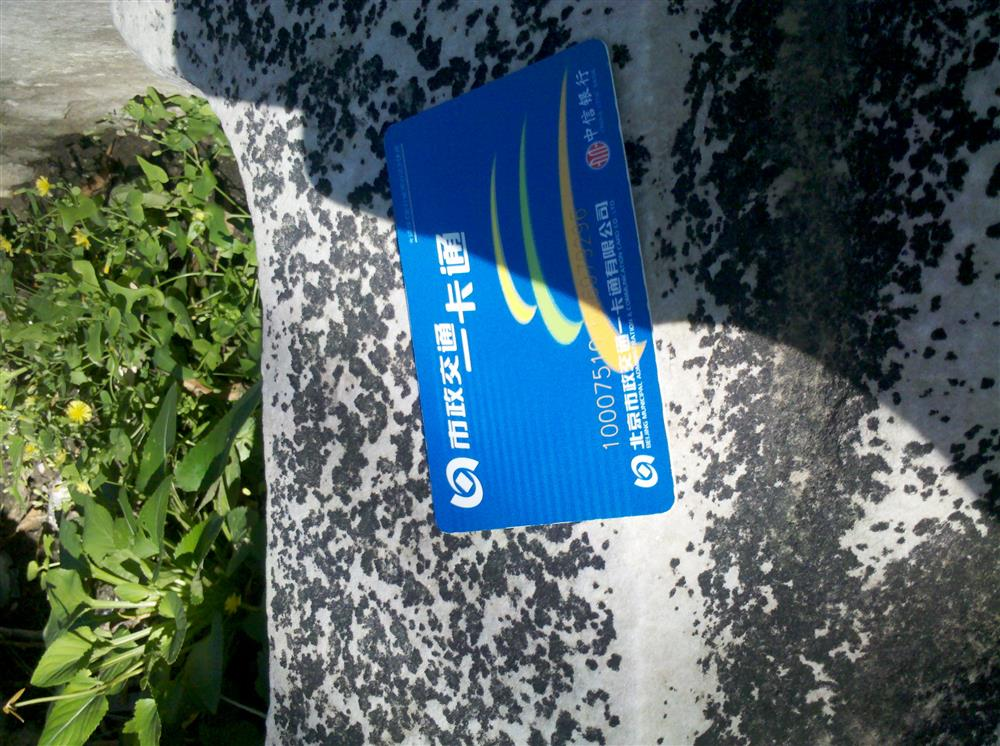bus_card: (383, 39, 675, 536)
